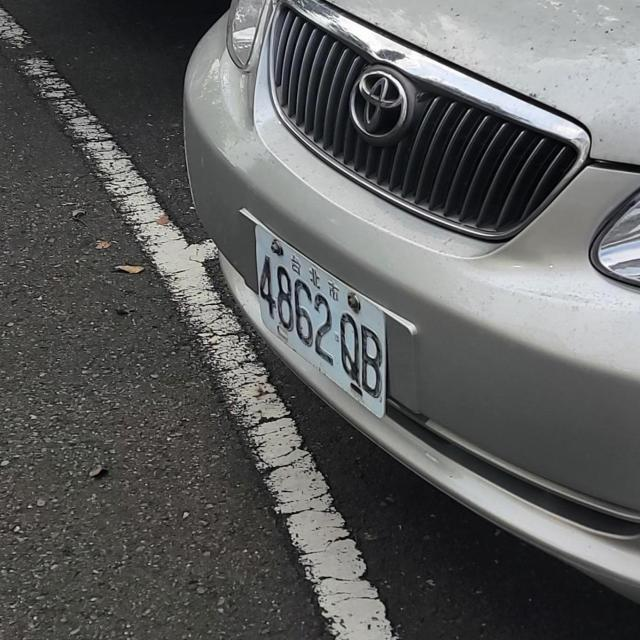W: (241, 224, 409, 423)
